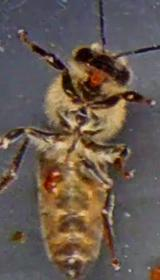varroa_mite: (43, 159, 64, 193)
